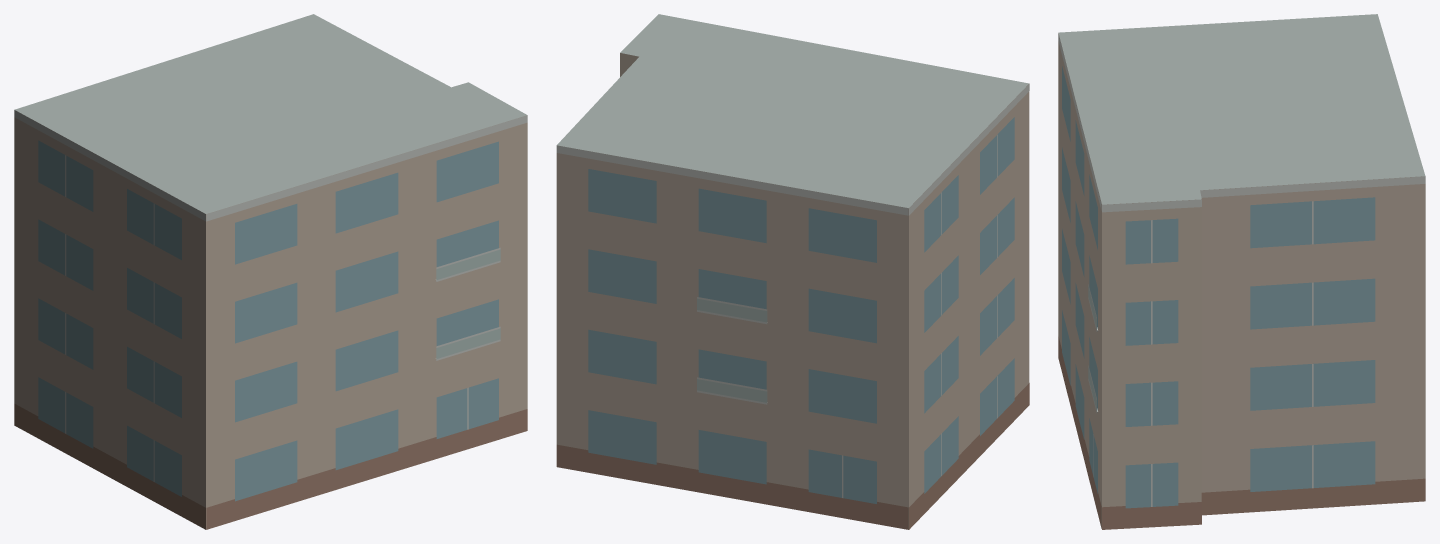
The model's file is survey-upis-32530964.glb.
3 views of the same model, side by side, from view 1: azimuth 30°, elevation 25°; view 2: azimuth 150°, elevation 25°; view 3: azimuth 270°, elevation 25° (orthographic). The views are drawn at different scales.
Visible parts, largest first — view 1: survey-upis-32530964.tmp; view 2: survey-upis-32530964.tmp; view 3: survey-upis-32530964.tmp.
Boxes of the visible parts, bbox=[...] form: survey-upis-32530964.tmp: bbox=[14, 14, 527, 529]; survey-upis-32530964.tmp: bbox=[556, 14, 1029, 529]; survey-upis-32530964.tmp: bbox=[1058, 14, 1425, 529].
Bounding box in the file's own units: 13.03 × 10.35 × 10.6.
